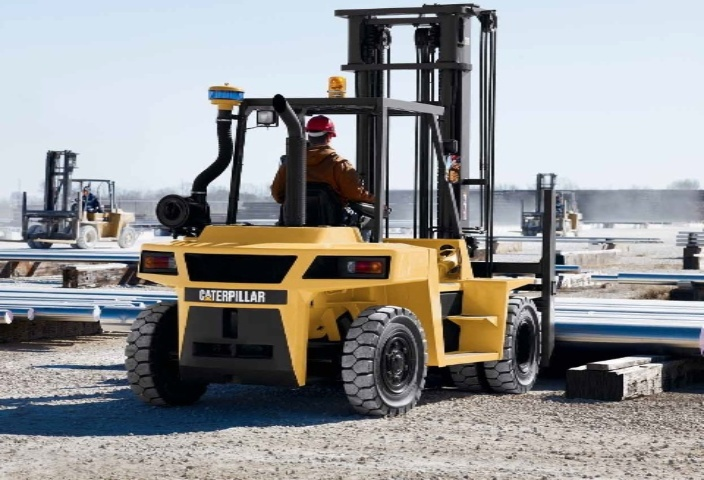industrial: (95, 1, 562, 423)
